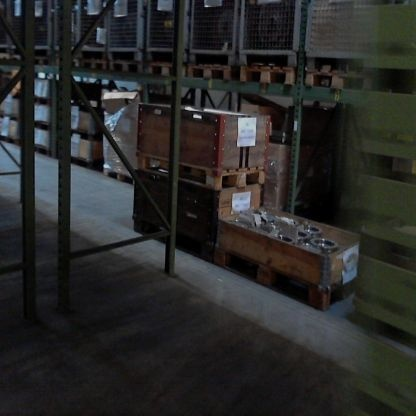pallets: (0, 55, 376, 89), (203, 242, 359, 323), (139, 145, 276, 192), (102, 164, 139, 187)
